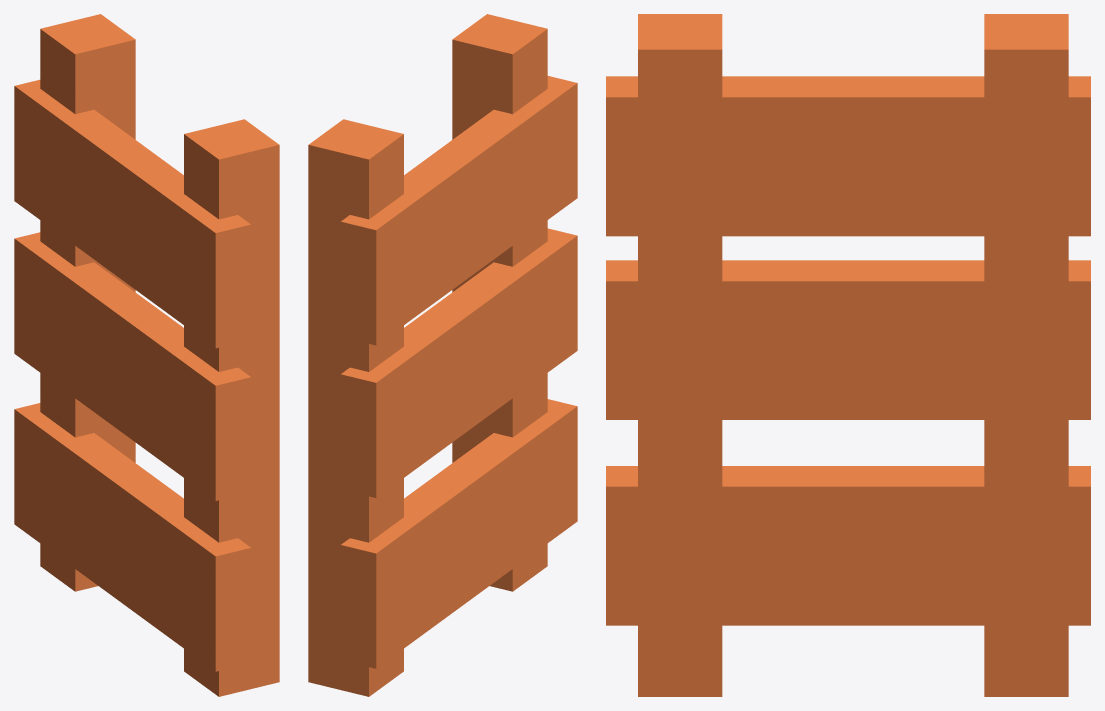
Rendered from Ladder.fbx.
3 renders of one model, left to right at view 1: azimuth 30°, elevation 25°; view 2: azimuth 150°, elevation 25°; view 3: azimuth 270°, elevation 25°, orthographic. The views are drawn at different scales.
Visible parts, largest first — view 1: Ladder; view 2: Ladder; view 3: Ladder.
Part boxes in pixels (x1,y1,x2,y2): Ladder: (14, 14, 279, 696); Ladder: (308, 14, 577, 696); Ladder: (606, 14, 1090, 696).
Bounding box in the file's own units: 30.01 × 200 × 136.
